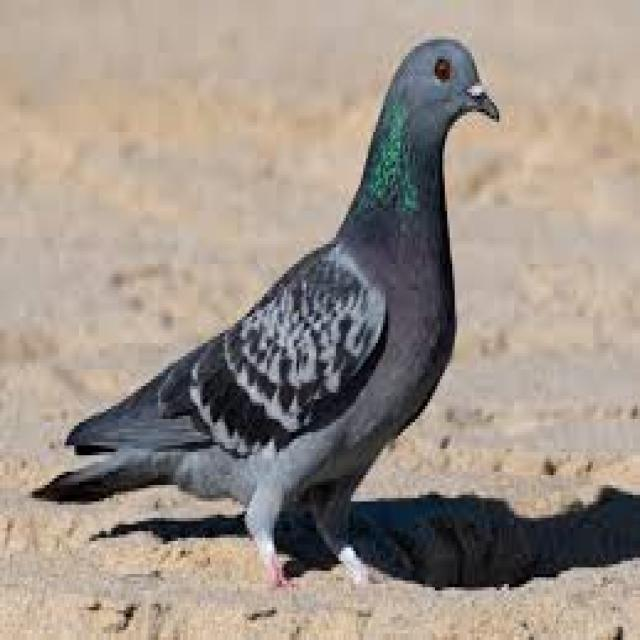Pigeon: (32, 28, 504, 594)
